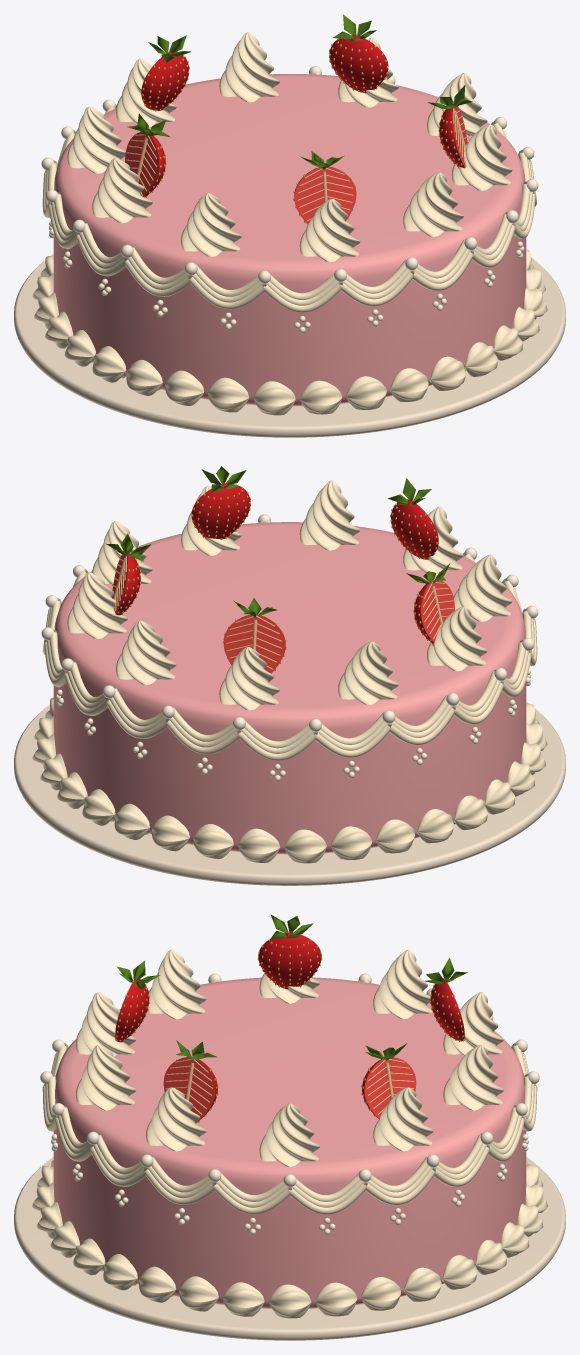
File: cake.glb
3 renders of one model, top to bottom at view 1: azimuth 30°, elevation 25°; view 2: azimuth 150°, elevation 25°; view 3: azimuth 270°, elevation 25°, orthographic.
Visible parts, largest first — view 1: Blush frosting, Vanilla cream, Ivory board, Strawberry skin, Strawberry flesh, Sugar pearls, Fresh leaves, Pale strawberry veins, Seeds; view 2: Blush frosting, Vanilla cream, Ivory board, Strawberry skin, Strawberry flesh, Sugar pearls, Fresh leaves, Pale strawberry veins, Seeds; view 3: Blush frosting, Vanilla cream, Ivory board, Strawberry skin, Strawberry flesh, Sugar pearls, Fresh leaves, Pale strawberry veins, Seeds.
Boxes of the visible parts, x1=… form: Blush frosting: x1=53, y1=74, x2=526, y2=406; Vanilla cream: x1=32, y1=32, x2=547, y2=415; Ivory board: x1=14, y1=254, x2=565, y2=437; Strawberry skin: x1=141, y1=35, x2=465, y2=211; Strawberry flesh: x1=125, y1=35, x2=467, y2=224; Sugar pearls: x1=41, y1=66, x2=538, y2=333; Fresh leaves: x1=127, y1=14, x2=472, y2=169; Pale strawberry veins: x1=125, y1=52, x2=467, y2=221; Seeds: x1=137, y1=38, x2=464, y2=222; Blush frosting: x1=53, y1=522, x2=526, y2=854; Vanilla cream: x1=32, y1=480, x2=547, y2=863; Ivory board: x1=14, y1=702, x2=565, y2=885; Strawberry skin: x1=115, y1=483, x2=438, y2=652; Strawberry flesh: x1=112, y1=483, x2=454, y2=673; Sugar pearls: x1=41, y1=514, x2=538, y2=781; Fresh leaves: x1=106, y1=466, x2=450, y2=617; Pale strawberry veins: x1=112, y1=500, x2=454, y2=669; Seeds: x1=117, y1=486, x2=442, y2=670; Blush frosting: x1=53, y1=977, x2=526, y2=1308; Vanilla cream: x1=32, y1=949, x2=547, y2=1318; Ivory board: x1=14, y1=1157, x2=565, y2=1340; Strawberry skin: x1=115, y1=932, x2=464, y2=1122; Strawberry flesh: x1=115, y1=932, x2=464, y2=1122; Sugar pearls: x1=40, y1=973, x2=539, y2=1234; Fresh leaves: x1=117, y1=914, x2=467, y2=1060; Pale strawberry veins: x1=115, y1=980, x2=464, y2=1114; Seeds: x1=115, y1=939, x2=464, y2=1122.
Bounding box in the file's own units: 0.32 × 0.1525 × 0.32.
